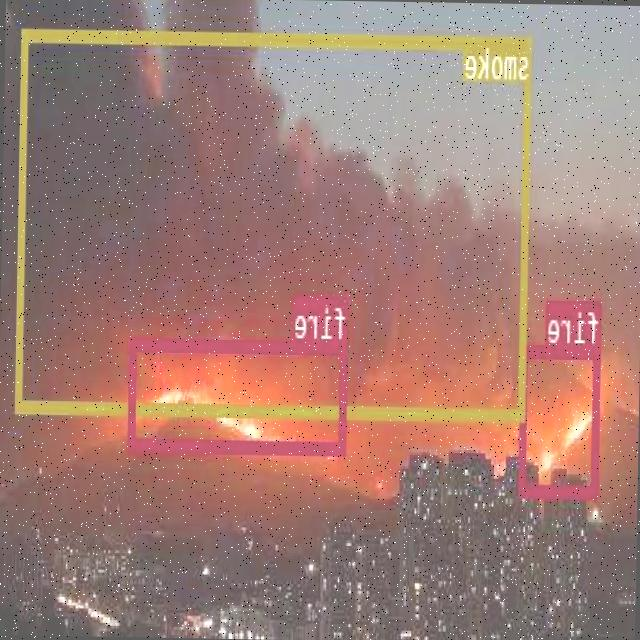fire: (129, 336, 348, 452), (519, 342, 602, 494)
smoke: (16, 28, 532, 418)
